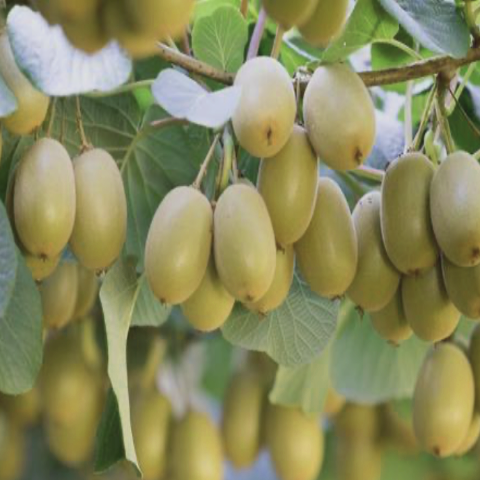kiwi: (142, 154, 221, 319), (375, 139, 455, 300), (58, 136, 137, 276), (302, 57, 382, 183), (200, 170, 277, 300), (410, 331, 480, 464), (12, 129, 76, 271)
